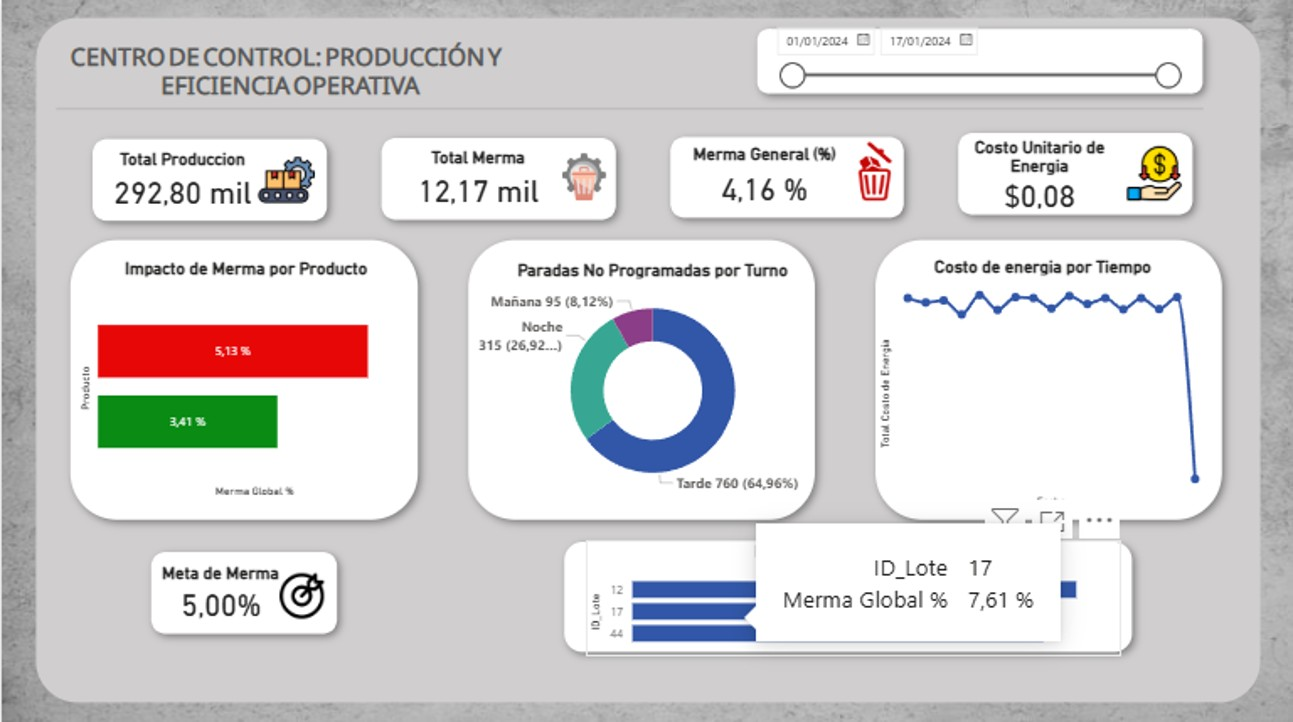

What the dashboard file says about the page in this screenshot:
{"tool":"powerbi","page":{"name":"Página 1","canvas":[1280,720],"ordinal":0},"visuals":[{"type":"card","title":"Merma General (%)","fields":{"Values":["Medidas Creadas.Ratio de Eficiencia"]},"box":[626.7,141,256.7,70],"z":0},{"type":"card","title":"Total Merma","fields":{"Values":["Medidas Creadas.Total Merma"]},"box":[356.7,145,230,65],"z":1000},{"type":"card","title":"Total Produccion","fields":{"Values":["Medidas Creadas.Total Produccion"]},"box":[68.3,146,221.7,65],"z":2000},{"type":"barChart","title":"Impacto de Merma por Producto","fields":{"Category":["Reporte_Produccion.Producto"],"Y":["Medidas Creadas.Merma Global"]},"box":[73.8,255,337.5,241.2],"z":3000},{"type":"donutChart","title":"Paradas No Programadas por Turno","fields":{"Y":["Sum(Reporte_Produccion.Paradas_No_Programadas_Min)"],"Category":["Reporte_Produccion.Turno"]},"box":[438.8,256.2,412.5,241.2],"z":4000},{"type":"slicer","fields":{"Values":["Reporte_Produccion.Fecha"]},"box":[755,16.7,421.7,76.7],"z":5000},{"type":"lineChart","title":"Costo de energia por Tiempo","fields":{"Y":["Medidas Creadas.Total Costo de Energia"],"Category":["Reporte_Produccion.Fecha"]},"box":[865.7,252.9,331.4,254.3],"z":6000},{"type":"card","title":"Meta de Merma","fields":{"Values":["Medidas Creadas.Meta de Merma"]},"box":[136.7,556.7,160,61.7],"z":7000},{"type":"card","title":"Costo Unitario de Energia","fields":{"Values":["Medidas Creadas.Costo Unitario de Energia"]},"box":[930,135,195,76.7],"z":8000},{"type":"barChart","title":"Peores 3 Lotes (% Merma)","fields":{"Category":["Reporte_Produccion.ID_Lote"],"Y":["Medidas Creadas.Merma Global"]},"box":[578.3,538.3,530,115],"z":9000}]}

Visuals, with their boxes in screenshot pixels (x1, y1, x2, y2), scaled from the page's 1280x720 canvas onto the 1293x722 screenshot:
"Merma General (%)" card: [633,141,892,212]
"Total Merma" card: [360,145,593,211]
"Total Produccion" card: [69,146,293,212]
"Impacto de Merma por Producto" barChart: [75,256,415,498]
"Paradas No Programadas por Turno" donutChart: [443,257,860,499]
slicer - Reporte_Produccion.Fecha: [763,17,1189,94]
"Costo de energia por Tiempo" lineChart: [874,254,1209,509]
"Meta de Merma" card: [138,558,300,620]
"Costo Unitario de Energia" card: [939,135,1136,212]
"Peores 3 Lotes (% Merma)" barChart: [584,540,1120,655]
